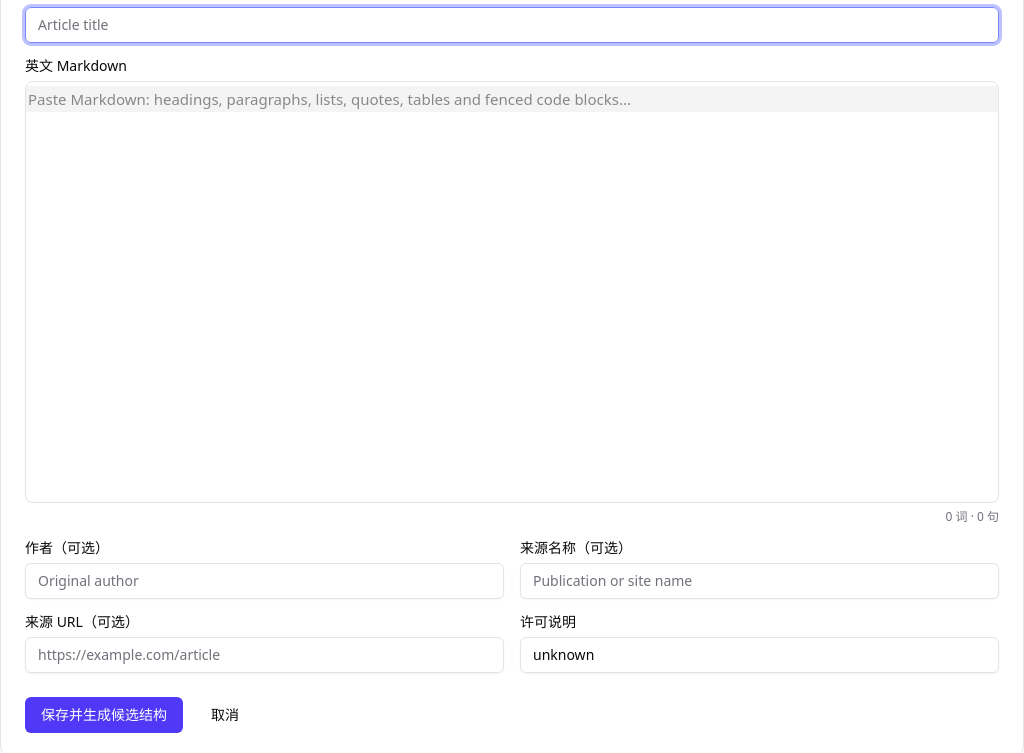
Scenario: ArticleNewPage › blocks submission when required fields are missing
The width and height of the screenshot is (1024, 753).
(page scrolled)
Click the button "保存并生成候选结构" at (104, 714), box [25,696,183,732]
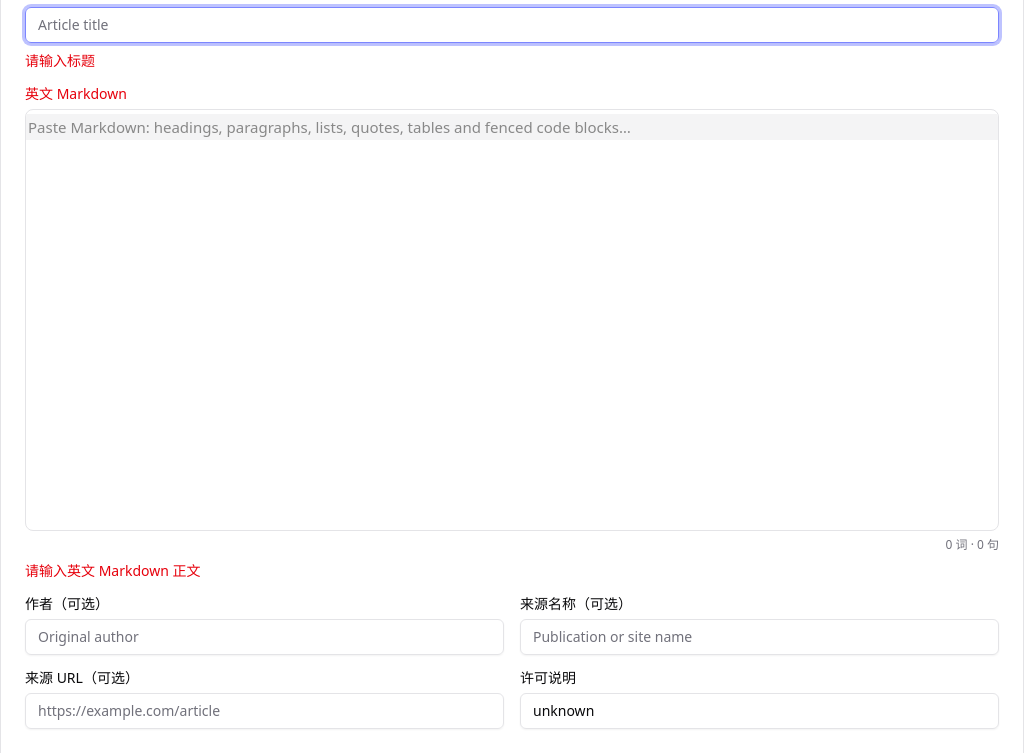
Result: the text "请输入标题" is shown at [25,50,95,70]
Result: the text "请输入英文 Markdown 正文" is shown at [25,560,200,580]
